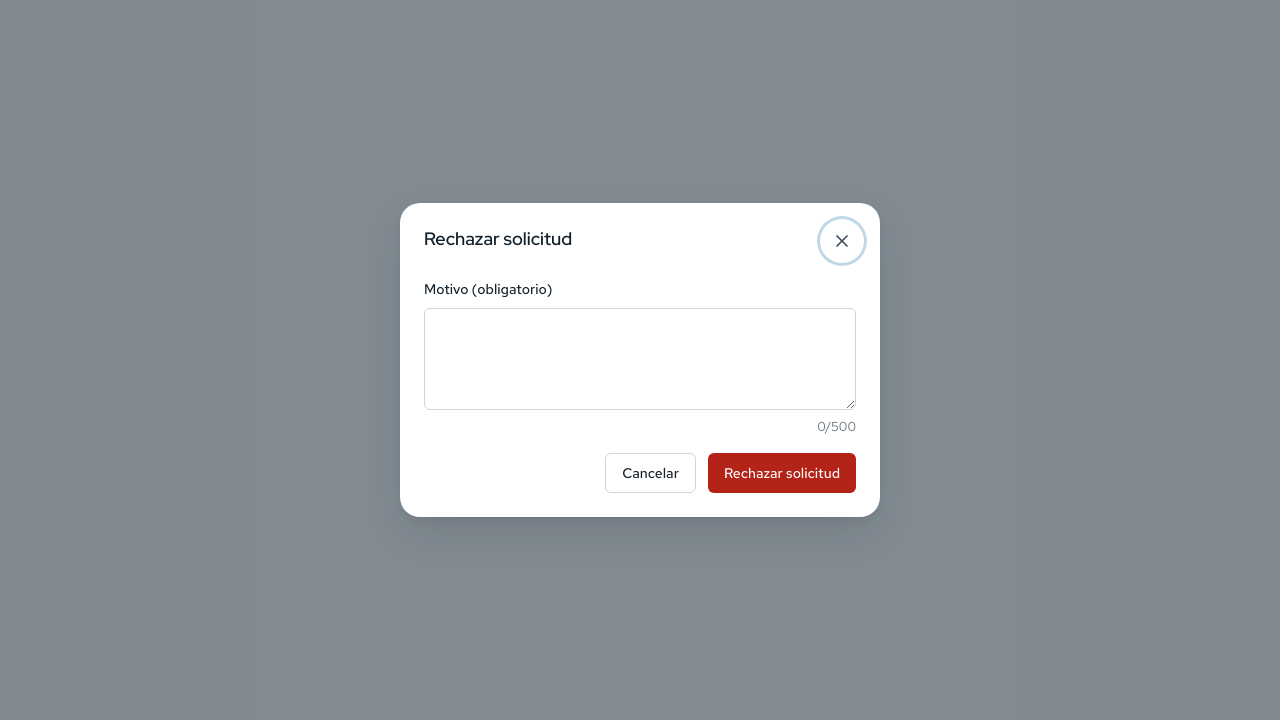
Test case: ReasonDialog › does not send a reason shorter than the minimum
Type "corto" into the text box labelled "Motivo (obligatorio)". click: (640, 359)
box: [424, 308, 856, 410]
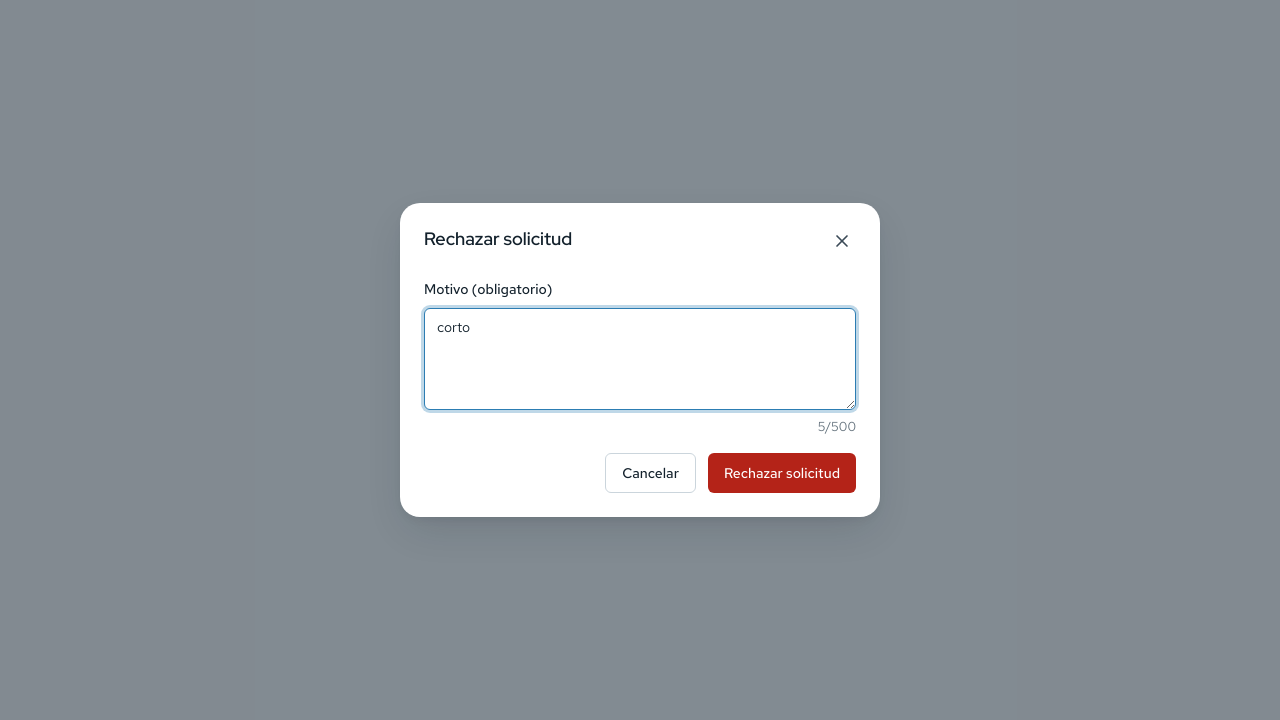
Click the button "Rechazar solicitud". click: click(782, 473)
box: [708, 453, 856, 493]
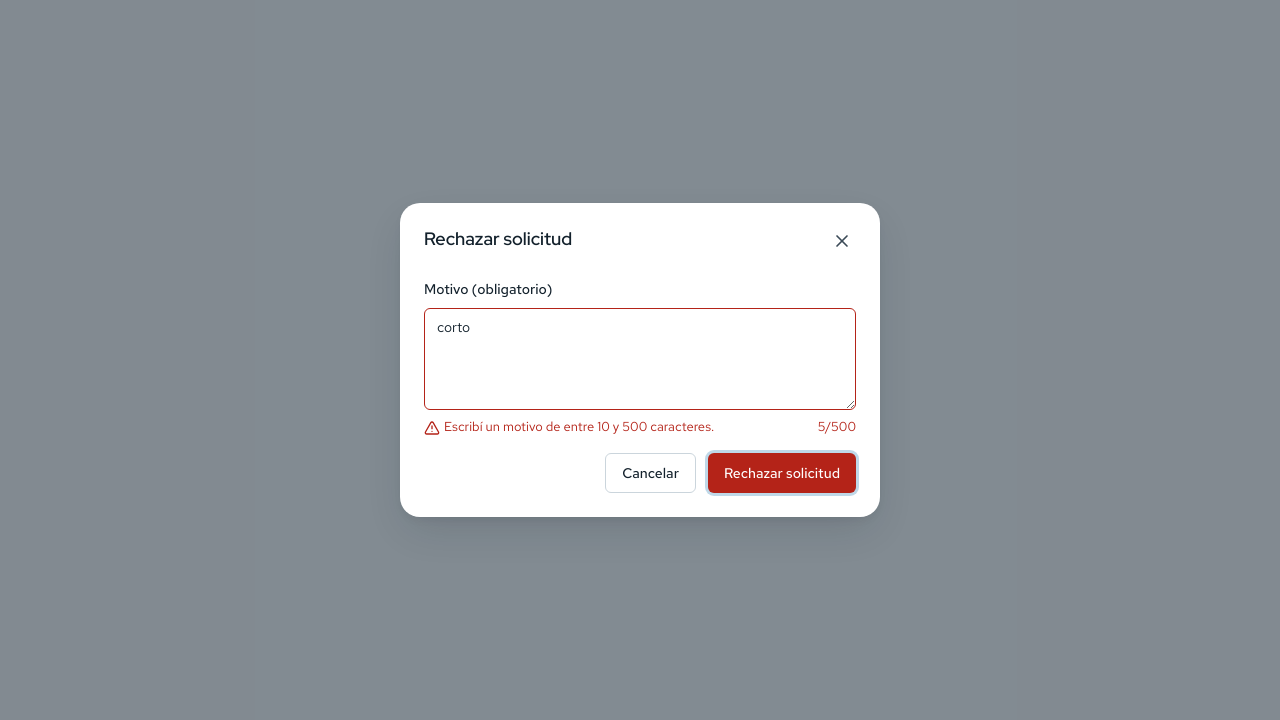
Expected: the text "Escribí un motivo de entre 10 y 500 caracteres." is shown, [424, 418, 714, 437]
